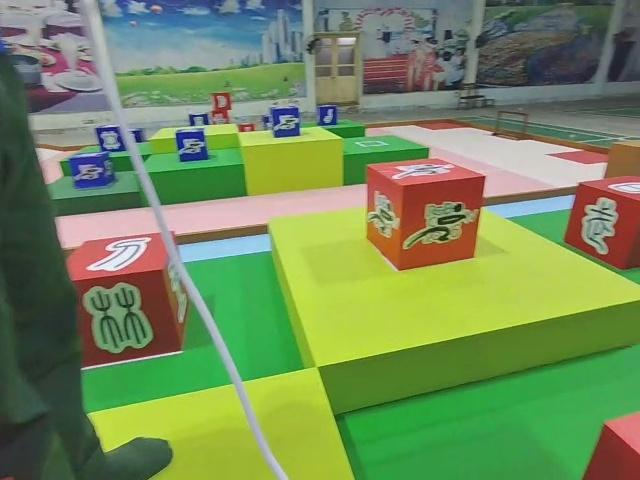R1: (364, 151, 489, 274)
R2 Fake: (47, 227, 194, 370), (560, 168, 640, 276)
